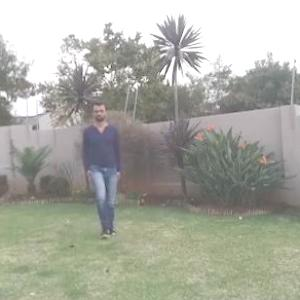follow: (84, 98, 124, 232)
